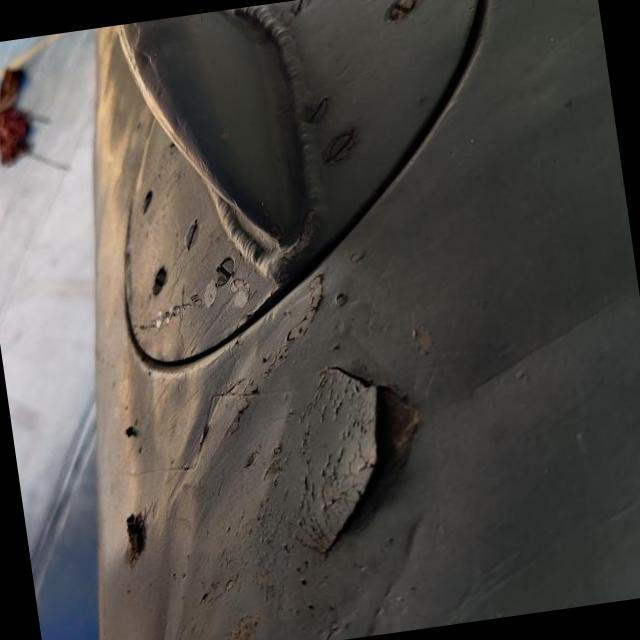Crack: (284, 370, 422, 558)
